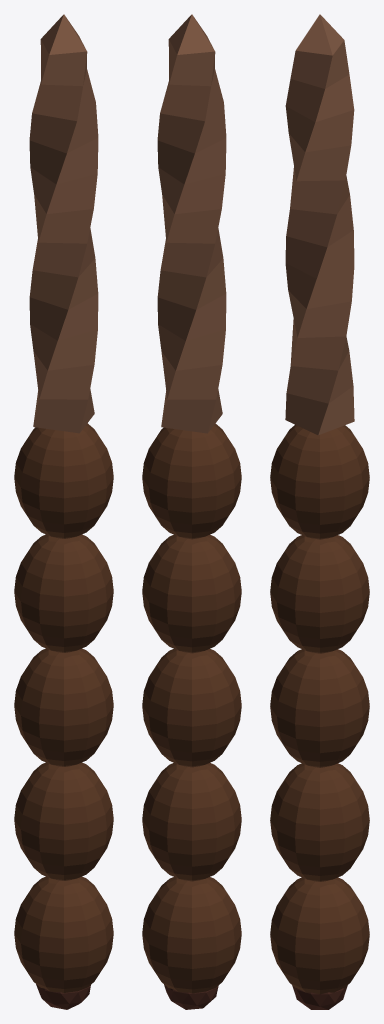
The model's file is Wand 250.glb.
3 views of the same model, side by side, from view 1: azimuth 30°, elevation 25°; view 2: azimuth 210°, elevation 25°; view 3: azimuth 270°, elevation 25° (orthographic).
Parts seen in each view (by area): view 1: GeneratedWand; view 2: GeneratedWand; view 3: GeneratedWand.
Boxes of the visible parts, x1,y1,x2,y2 form: GeneratedWand: [14, 14, 113, 1009]; GeneratedWand: [142, 14, 241, 1009]; GeneratedWand: [270, 14, 369, 1009].
Bounding box in the file's own units: 0.0447 × 0.4942 × 0.0449.
